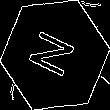N_SE: (27, 26, 83, 84)
